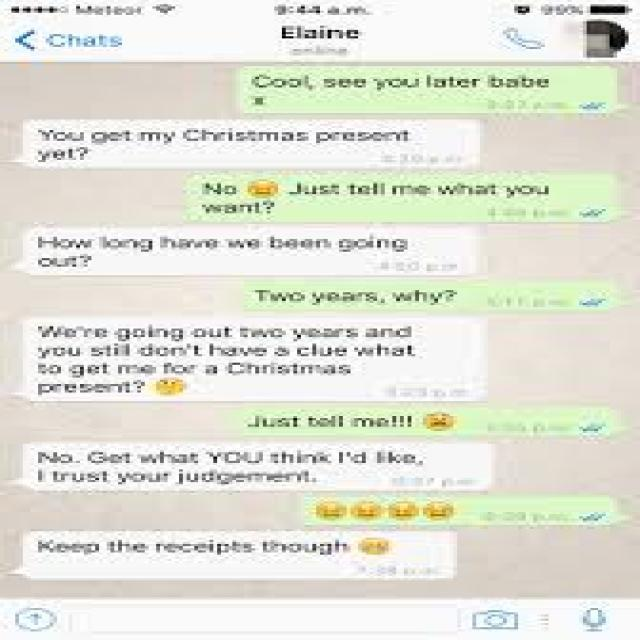scam: (27, 318, 490, 406), (16, 438, 496, 490), (20, 119, 484, 169), (20, 532, 459, 582), (24, 228, 478, 276)
